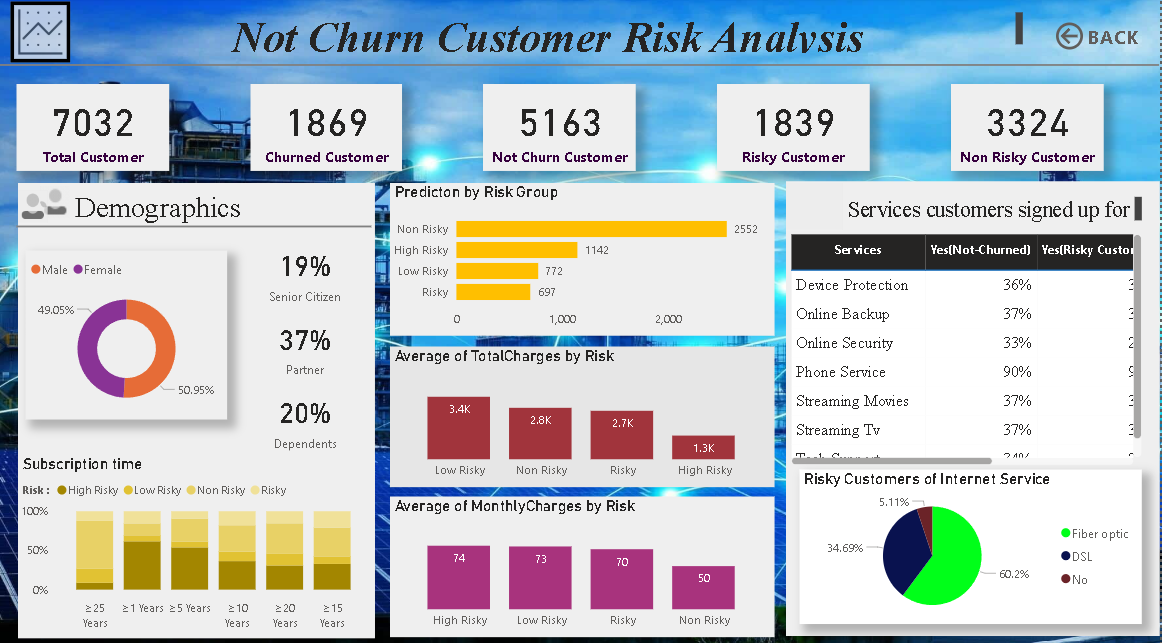

The dashboard page shown, as its layout file describes it:
{"tool":"powerbi","page":{"name":"Not Churn Customer Risk Analysis","canvas":[1280,720],"ordinal":3},"visuals":[{"type":"textbox","box":[82.8,11.6,1051.9,54.7],"z":0},{"type":"shape","box":[0,70,1280,11],"z":1000},{"type":"card","fields":{"Values":["CountNonNull(Telco-Customer-Churn.Churn)"]},"box":[17.9,96.1,168.9,96.1],"z":2000},{"type":"card","fields":{"Values":["CountNonNull(Churned_Data.Churn)"]},"box":[276.4,96.1,167.6,96.1],"z":3000},{"type":"card","fields":{"Values":["CountNonNull(Telco_Churn_Analysis_Predictions.Churn)"]},"box":[533.6,96.1,168.9,96.1],"z":4000},{"type":"card","fields":{"Values":["CountNonNull(Telco_Churn_Analysis_Predictions.Risk )"]},"box":[792.1,96.1,168.9,96.1],"z":5000},{"type":"card","fields":{"Values":["CountNonNull(Telco_Churn_Analysis_Predictions.Risk )"]},"box":[1050.6,96.1,168.9,96.1],"z":6000},{"type":"shape","box":[19.2,204.6,394.2,502.7],"z":7000},{"type":"actionButton","box":[45.4,209,33,35.7],"z":8000},{"type":"actionButton","box":[19.2,213.1,33,35.7],"z":9000},{"type":"textbox","box":[78.4,209,268.1,60.5],"z":10000},{"type":"shape","box":[17.9,244.7,391.8,16.5],"z":11000},{"type":"card","fields":{"Values":["Telco_Churn_Analysis_Predictions.Avg Senior Citizen 1"]},"box":[261.2,265.3,149.9,78.4],"z":12000},{"type":"card","fields":{"Values":["Telco_Churn_Analysis_Predictions.Avg Partner1"]},"box":[261.2,346.5,149.9,78.4],"z":13000},{"type":"card","fields":{"Values":["Telco_Churn_Analysis_Predictions.Avg Dependents1"]},"box":[261.2,427.6,149.9,78.4],"z":14000},{"type":"donutChart","fields":{"Category":["Telco_Churn_Analysis_Predictions.gender"],"Y":["CountNonNull(Telco_Churn_Analysis_Predictions.gender)"]},"box":[28.8,280.2,222.5,186.8],"z":15000},{"type":"hundredPercentStackedColumnChart","title":"Subscription time","fields":{"Category":["Telco_Churn_Analysis_Predictions.tenure_group_2"],"Y":["Telco_Churn_Analysis_Predictions.Percentage of subscriber_Not churn"],"Series":["Telco_Churn_Analysis_Predictions.Risk "]},"box":[19.2,505.4,394.2,201.9],"z":16000},{"type":"clusteredBarChart","title":"Predicton by Risk Group","fields":{"Category":["Telco_Churn_Analysis_Predictions.Risk "],"Y":["CountNonNull(Telco_Churn_Analysis_Predictions.Risk )"]},"box":[429.9,204.6,424.4,168.9],"z":17000},{"type":"shape","box":[868,203.7,412.5,501.9],"z":18000},{"type":"textbox","box":[931.1,214.7,335.3,37.4],"z":19000},{"type":"actionButton","box":[868.3,205,62.7,51.9],"z":20000},{"type":"tableEx","fields":{"Values":["percentage of Not Churned Customers' services.Services","Sum(percentage of Not Churned Customers' services.Yes(Not-Churned))","Sum(percentage of Not Churned Customers' services.Yes(Risky Customer))","Sum(percentage of Customers' services.No Internet Service)","Sum(percentage of Customers' services.No)","Sum(percentage of Customers' services.Count)"]},"box":[868,256.8,397.6,265],"z":21000},{"type":"pieChart","title":" Risky Customers of Internet Service","fields":{"Category":["Telco_Churn_Analysis_Predictions.InternetService"],"Y":["CountNonNull(Telco_Churn_Analysis_Predictions.InternetService)"]},"box":[882.9,521.8,377.7,170.6],"z":22000},{"type":"clusteredColumnChart","fields":{"Category":["Telco_Churn_Analysis_Predictions.Risk "],"Y":["Avg(Telco_Churn_Analysis_Predictions.TotalCharges)"]},"box":[429.9,385.9,424.4,155.2],"z":23000},{"type":"clusteredColumnChart","fields":{"Category":["Telco_Churn_Analysis_Predictions.Risk "],"Y":["Avg(Telco_Churn_Analysis_Predictions.MonthlyCharges)"]},"box":[429.9,552.1,424.4,155.2],"z":24000},{"type":"actionButton","box":[12.4,5.5,65.9,67.3],"z":25000},{"type":"actionButton","box":[1161.4,22.9,100.1,39.8],"z":26000}]}

Visuals, with their boxes in screenshot pixels (x1, y1, x2, y2), scaled from the page's 1280x720 canvas onto the 1162x643 screenshot:
textbox: <box>75,10,1030,59</box>
shape: <box>0,63,1161,72</box>
card - CountNonNull(Telco-Customer-Churn.Churn): <box>16,86,170,172</box>
card - CountNonNull(Churned_Data.Churn): <box>251,86,403,172</box>
card - CountNonNull(Telco_Churn_Analysis_Predictions.Churn): <box>484,86,638,172</box>
card - CountNonNull(Telco_Churn_Analysis_Predictions.Risk ): <box>719,86,872,172</box>
card - CountNonNull(Telco_Churn_Analysis_Predictions.Risk ): <box>954,86,1107,172</box>
shape: <box>17,183,375,632</box>
actionButton: <box>41,187,71,219</box>
actionButton: <box>17,190,47,222</box>
textbox: <box>71,187,315,241</box>
shape: <box>16,219,372,233</box>
card - Telco_Churn_Analysis_Predictions.Avg Senior Citizen 1: <box>237,237,373,307</box>
card - Telco_Churn_Analysis_Predictions.Avg Partner1: <box>237,309,373,379</box>
card - Telco_Churn_Analysis_Predictions.Avg Dependents1: <box>237,382,373,452</box>
donutChart - Telco_Churn_Analysis_Predictions.gender x CountNonNull(Telco_Churn_Analysis_Predictions.gender): <box>26,250,228,417</box>
"Subscription time" hundredPercentStackedColumnChart: <box>17,451,375,632</box>
"Predicton by Risk Group" clusteredBarChart: <box>390,183,776,334</box>
shape: <box>788,182,1161,630</box>
textbox: <box>845,192,1150,225</box>
actionButton: <box>788,183,845,229</box>
tableEx - percentage of Not Churned Customers' services.Services x Sum(percentage of Not Churned Customers' services.Yes(Not-Churned)): <box>788,229,1149,466</box>
" Risky Customers of Internet Service" pieChart: <box>802,466,1144,618</box>
clusteredColumnChart - Telco_Churn_Analysis_Predictions.Risk  x Avg(Telco_Churn_Analysis_Predictions.TotalCharges): <box>390,345,776,483</box>
clusteredColumnChart - Telco_Churn_Analysis_Predictions.Risk  x Avg(Telco_Churn_Analysis_Predictions.MonthlyCharges): <box>390,493,776,632</box>
actionButton: <box>11,5,71,65</box>
actionButton: <box>1054,20,1145,56</box>
